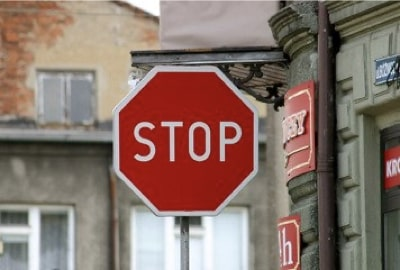StopSign: (111, 63, 260, 218)
